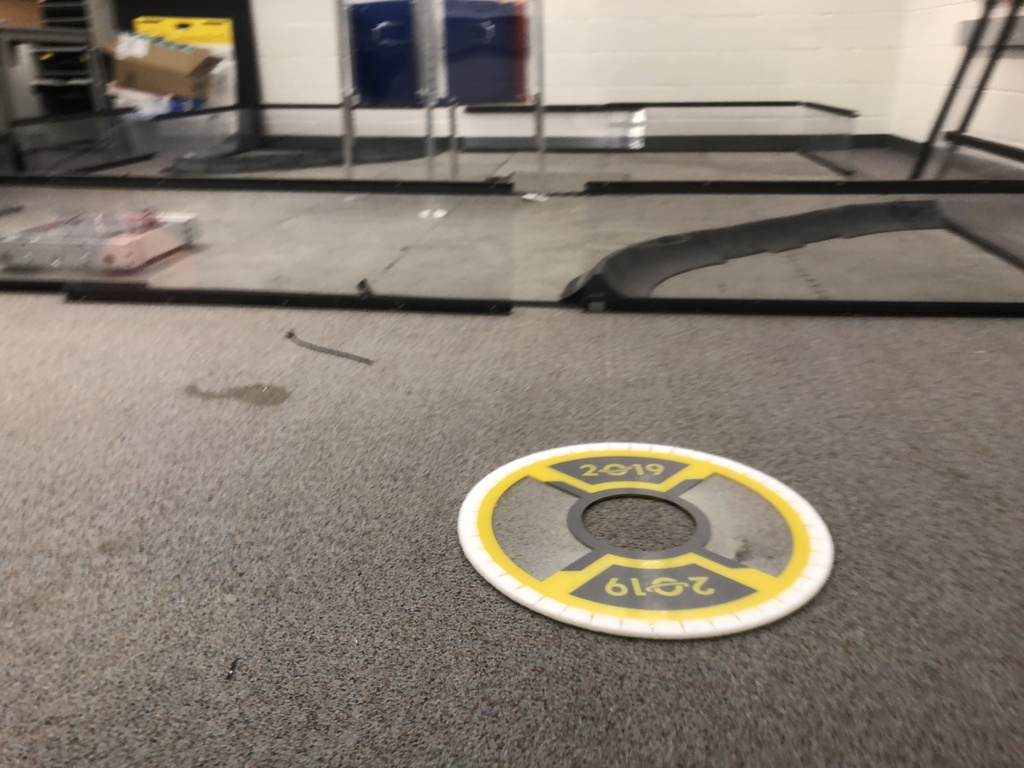hatch_panel: (452, 432, 844, 650)
